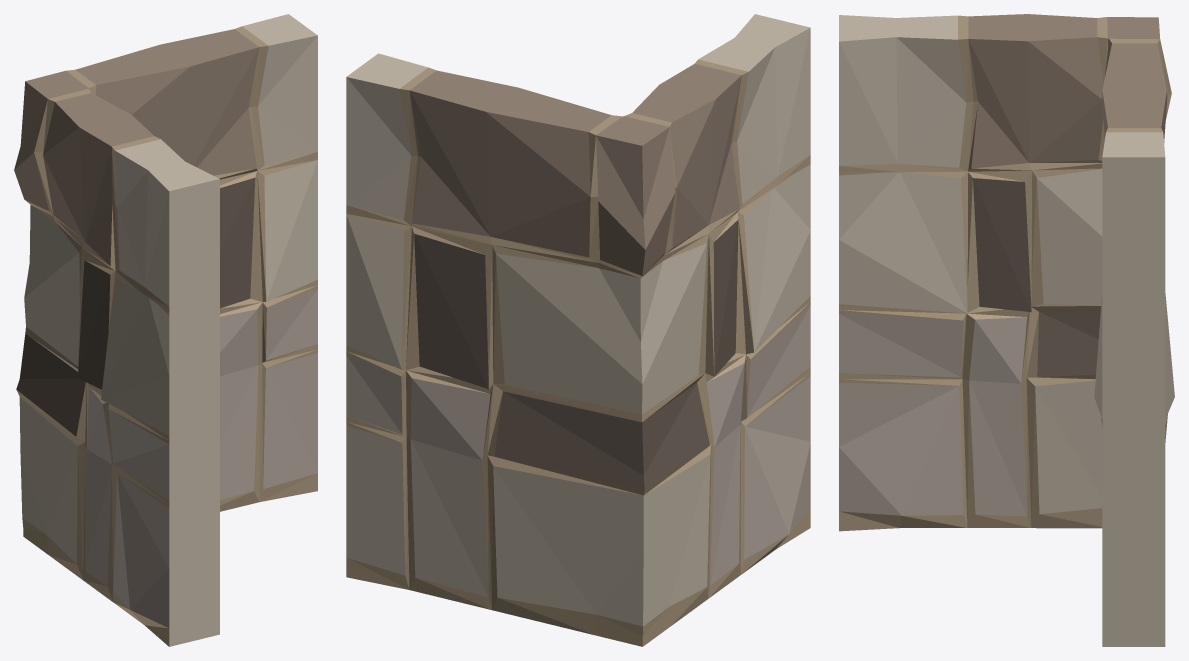
File: RG-Dungeon_Corner-wall-04.fbx
3 views of the same model, side by side, from view 1: azimuth 30°, elevation 25°; view 2: azimuth 150°, elevation 25°; view 3: azimuth 270°, elevation 25° (orthographic). The views are drawn at different scales.
Visible parts, largest first — view 1: RG-Dungeon_Corner-wall-04; view 2: RG-Dungeon_Corner-wall-04; view 3: RG-Dungeon_Corner-wall-04.
Boxes of the visible parts, bbox=[...] form: RG-Dungeon_Corner-wall-04: bbox=[14, 14, 317, 646]; RG-Dungeon_Corner-wall-04: bbox=[346, 14, 810, 646]; RG-Dungeon_Corner-wall-04: bbox=[839, 14, 1174, 646].
Size of the model in its own units: 10.36 by 16.05 by 9.98.
